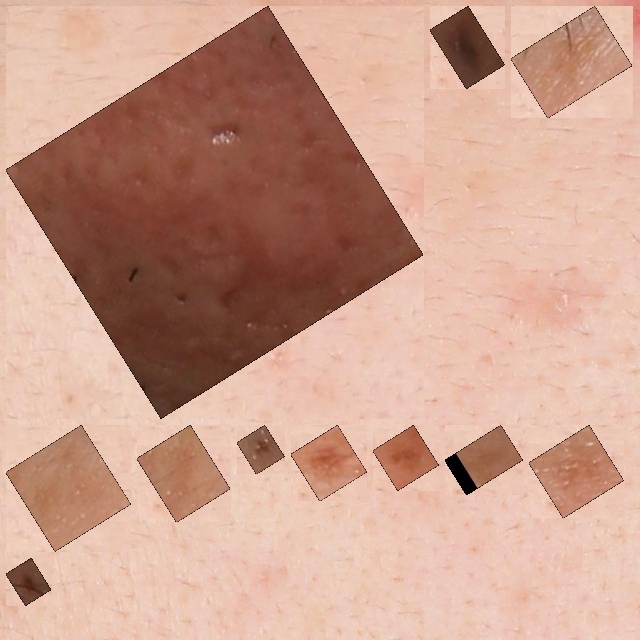hypertrophic_scar: (17, 17, 412, 407)
melasma: (17, 436, 120, 540), (522, 17, 621, 107), (148, 436, 219, 511), (540, 436, 613, 507), (456, 436, 512, 484)
nevus: (441, 17, 494, 77), (302, 436, 356, 490), (384, 436, 428, 479), (248, 436, 274, 463), (17, 569, 40, 594)
